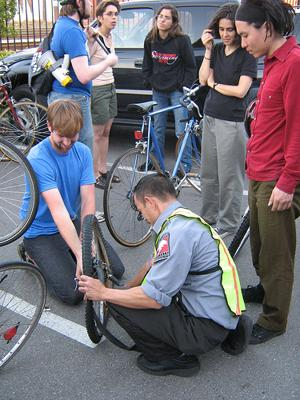person: (76, 170, 248, 375)
